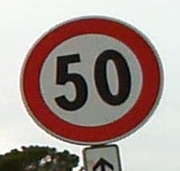limite 50: (19, 13, 164, 145)
